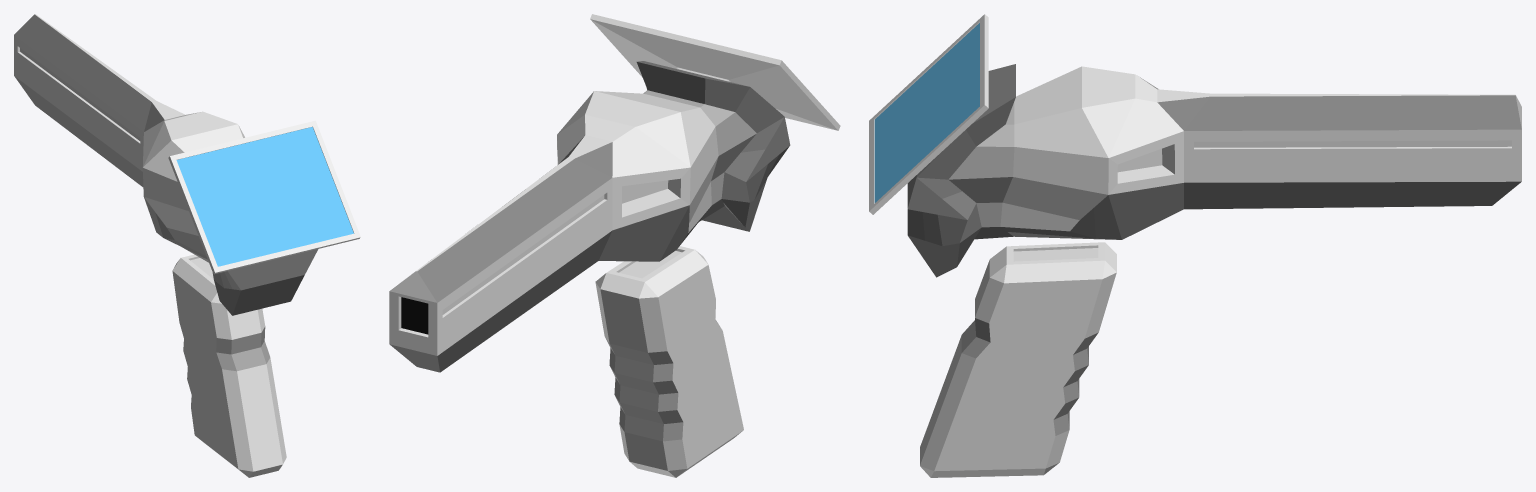
File: BuildingTool.fbx
The picture shows the model from 3 angles, left to right: view 1: azimuth 30°, elevation 25°; view 2: azimuth 150°, elevation 25°; view 3: azimuth 270°, elevation 25°; orthographic projection. The views are drawn at different scales.
Visible parts, largest first — view 1: Cube; view 2: Cube; view 3: Cube.
Part boxes in pixels (x1,y1,x2,y2): Cube: [14, 14, 360, 477]; Cube: [389, 14, 840, 477]; Cube: [869, 14, 1521, 477].
Size of the model in its own units: 17.72 by 37.22 by 53.79.
